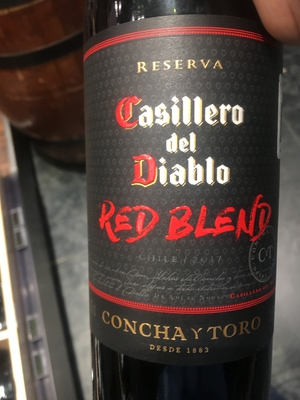casillero del diablo red blend: (74, 14, 291, 381)
